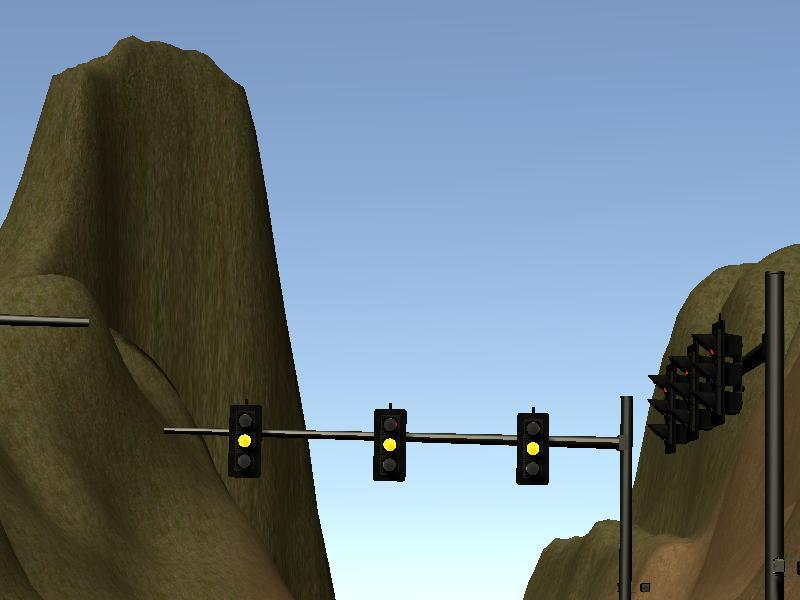Yellow: (515, 412, 550, 488), (228, 405, 262, 478), (375, 409, 406, 480)
